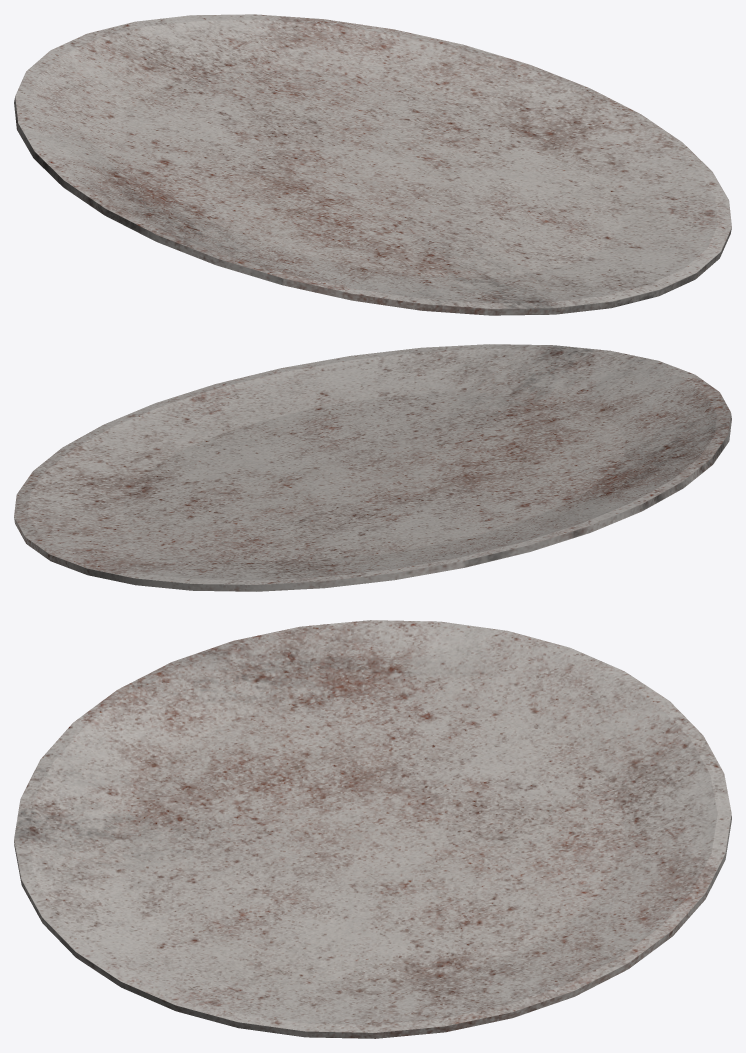
Rendered from obj_old_ceramic_plate_e73017.glb.
The picture shows the model from 3 angles, top to bottom: view 1: azimuth 30°, elevation 25°; view 2: azimuth 150°, elevation 25°; view 3: azimuth 270°, elevation 25°; orthographic projection.
Visible parts, largest first — view 1: obj_old_ceramic_plate_e73017; view 2: obj_old_ceramic_plate_e73017; view 3: obj_old_ceramic_plate_e73017.
Part boxes in pixels (x1,y1,x2,y2): obj_old_ceramic_plate_e73017: (14,14,731,315); obj_old_ceramic_plate_e73017: (14,344,731,591); obj_old_ceramic_plate_e73017: (14,620,731,1038).
Bounding box in the file's own units: 0.2664 × 0.0511 × 0.27.
1 material, 1 textured.
